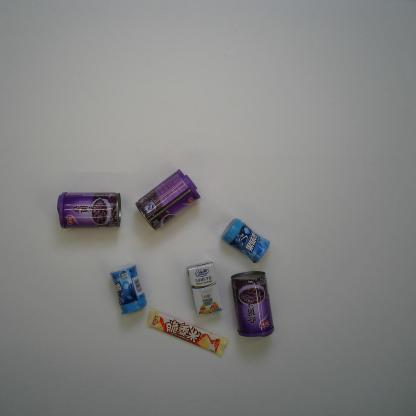Canned Food: (134, 168, 201, 233), (230, 268, 276, 338), (56, 191, 122, 231)
Chocolate: (145, 308, 229, 358)
Gum: (220, 217, 271, 264), (109, 262, 148, 316)
Milk: (186, 260, 223, 318)
